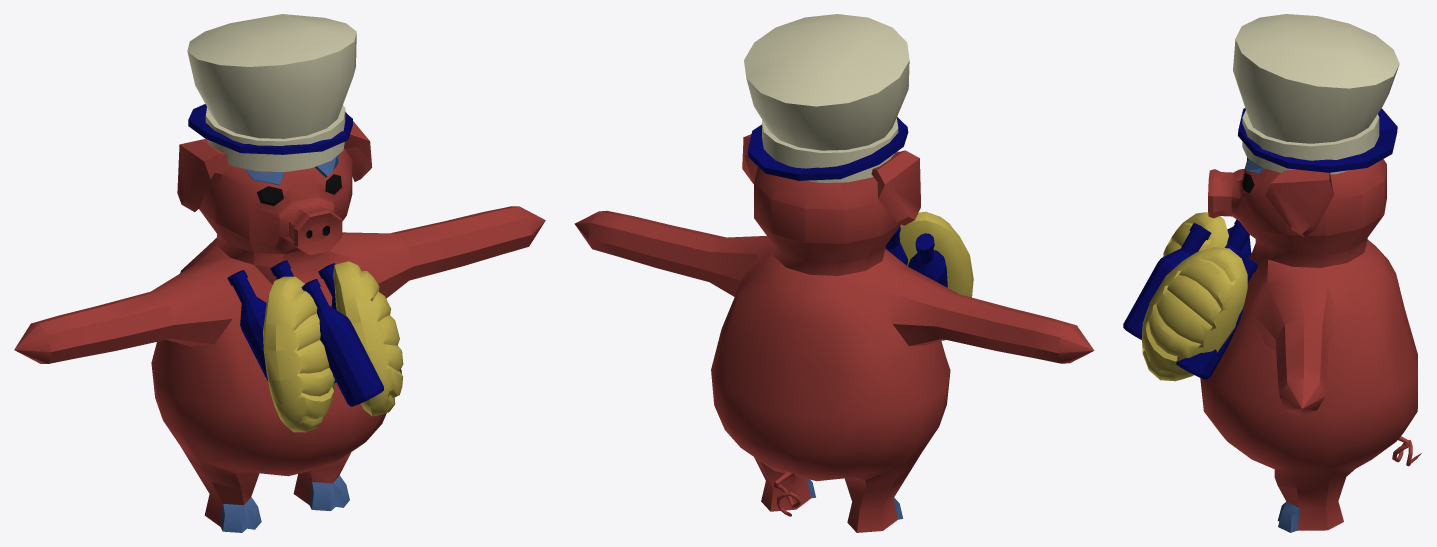
Rendered from pig_withbreads_texture.fbx.
The picture shows the model from 3 angles, left to right: view 1: azimuth 30°, elevation 25°; view 2: azimuth 150°, elevation 25°; view 3: azimuth 270°, elevation 25°; orthographic projection. The views are drawn at different scales.
Visible parts, largest first — view 1: pig_withbreads, breads, pig_withbottles; view 2: pig_withbreads, pig_withbottles, breads; view 3: pig_withbreads, breads, pig_withbottles.
Boxes of the visible parts, <box> form: pig_withbreads: <box>14,14,545,532</box>; breads: <box>263,261,403,432</box>; pig_withbottles: <box>188,104,401,406</box>; pig_withbreads: <box>574,14,1094,532</box>; pig_withbottles: <box>747,117,947,287</box>; breads: <box>899,211,973,340</box>; pig_withbreads: <box>1200,14,1421,532</box>; breads: <box>1141,212,1247,381</box>; pig_withbottles: <box>1123,108,1397,379</box>.
Size of the model in its own units: 287 by 249 by 144.
